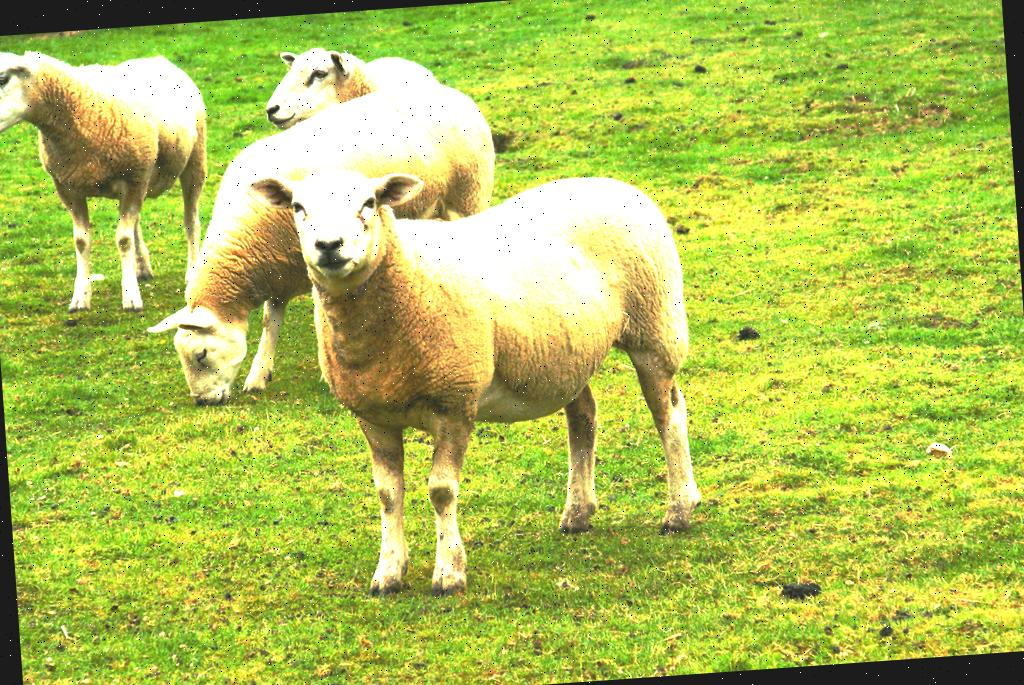Sheep: (244, 152, 708, 603), (132, 79, 508, 409), (0, 35, 219, 320), (260, 39, 444, 130)
